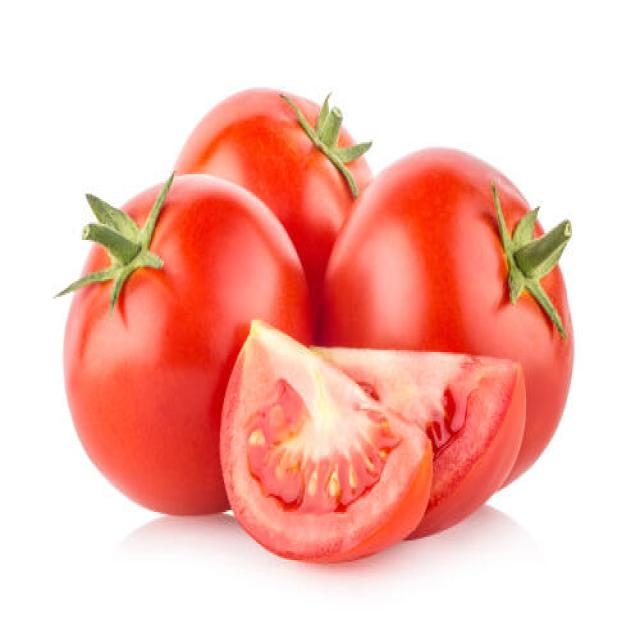Tomato: (316, 142, 584, 522), (57, 169, 317, 524), (214, 307, 438, 566), (163, 75, 394, 296), (301, 342, 534, 545)
